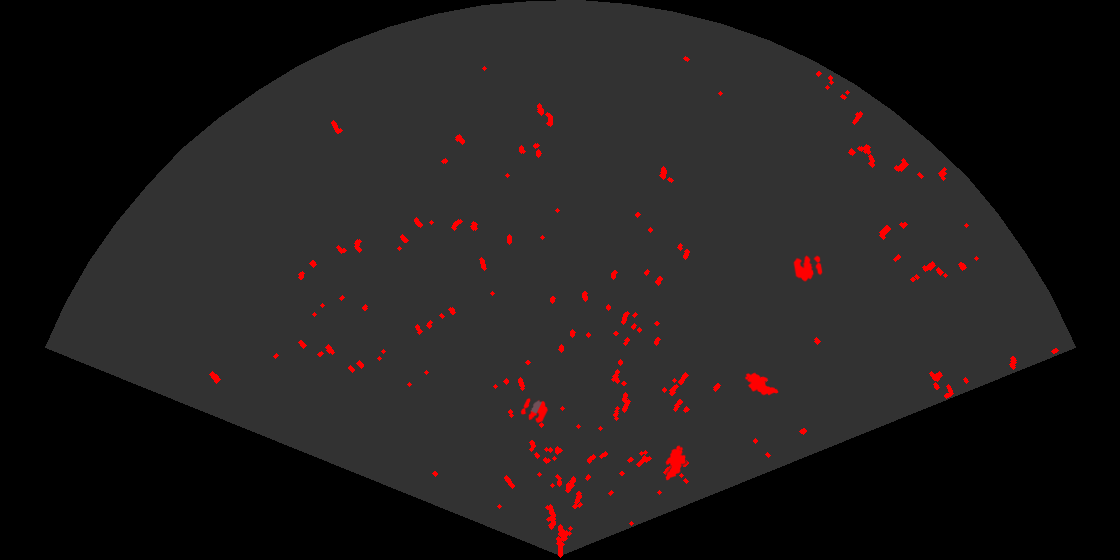AUV: (743, 371, 780, 397), (664, 443, 688, 482)
ball: (792, 254, 824, 283), (519, 396, 550, 425)
